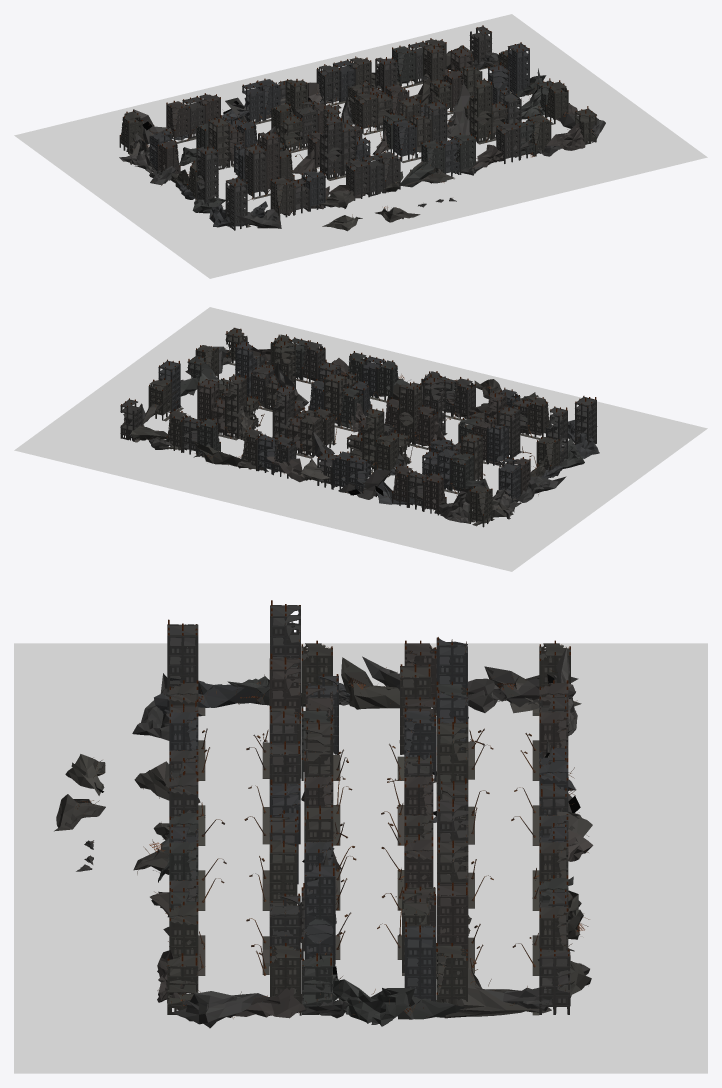
The model's file is RUIN_COMP.fbx.
3 renders of one model, top to bottom at view 1: azimuth 30°, elevation 25°; view 2: azimuth 150°, elevation 25°; view 3: azimuth 270°, elevation 25°, orthographic. The views are drawn at different scales.
Parts seen in each view (by area): view 1: Ground_Terrain, Road_Asphalt, B04S4_L1_3, B02S2_L1_3, Outer_W1_1_3, B01S1_L1_1, Corner_SW_1, Outer_E2_1_1, B10W2_L1_1, B15C3_N_01_LowPoly, B01S1_L2_3, Outer_S1_1_LowPoly (+50 smaller); view 2: Ground_Terrain, Road_Asphalt, B08N4_R1_3, B14C2_S_02_3, B06N2_R2_3, B07N3_R3_3, Corner_SW_1, B02S2_L1_3, Corner_NW_LowPoly, B07N3_R1_5, B15C3_S_02_1, B09W1_L3_5 (+45 smaller); view 3: Ground_Terrain, Road_Asphalt, Sidewalks_Curbs, B11E1_R3_3, Outer_E2_1_1, Barricade_014, B08N4_R3_1, B06N2_R2_3, Corner_SW_1, Barricade_017, Corner_NE_2, Barricade_012 (+49 smaller).
Boxes of the visible parts, left/top/right/bottom form: Ground_Terrain: left=14, top=14, right=707, bottom=278; Road_Asphalt: left=147, top=68, right=570, bottom=226; B04S4_L1_3: left=469, top=78, right=492, bottom=142; B02S2_L1_3: left=320, top=115, right=342, bottom=179; Outer_W1_1_3: left=196, top=146, right=218, bottom=203; B01S1_L1_1: left=244, top=143, right=266, bottom=197; Corner_SW_1: left=225, top=176, right=247, bottom=230; Outer_E2_1_1: left=507, top=42, right=529, bottom=94; B10W2_L1_1: left=208, top=115, right=230, bottom=169; B15C3_N_01_LowPoly: left=354, top=92, right=378, bottom=133; B01S1_L2_3: left=258, top=131, right=280, bottom=194; Outer_S1_1_LowPoly: left=270, top=177, right=294, bottom=217; Ground_Terrain: left=14, top=307, right=707, bottom=571; Road_Asphalt: left=137, top=364, right=574, bottom=518; B08N4_R1_3: left=225, top=374, right=246, bottom=438; B14C2_S_02_3: left=399, top=381, right=421, bottom=444; B06N2_R2_3: left=362, top=407, right=384, bottom=471; B07N3_R3_3: left=272, top=385, right=294, bottom=438; Corner_SW_1: left=575, top=396, right=596, bottom=445; B02S2_L1_3: left=422, top=374, right=445, bottom=435; Corner_NW_LowPoly: left=469, top=486, right=492, bottom=527; B07N3_R1_5: left=300, top=408, right=322, bottom=457; B15C3_S_02_1: left=324, top=371, right=346, bottom=425; B09W1_L3_5: left=486, top=424, right=508, bottom=466; Ground_Terrain: left=14, top=643, right=707, bottom=1073; Road_Asphalt: left=167, top=701, right=570, bottom=1015; Sidewalks_Curbs: left=167, top=707, right=539, bottom=1015; B11E1_R3_3: left=304, top=863, right=335, bottom=967; Outer_E2_1_1: left=404, top=921, right=435, bottom=1001; Barricade_014: left=332, top=979, right=414, bottom=1026; B08N4_R3_1: left=437, top=882, right=468, bottom=967; B06N2_R2_3: left=437, top=718, right=468, bottom=810; Corner_SW_1: left=167, top=619, right=198, bottom=694; Barricade_017: left=171, top=989, right=267, bottom=1028; Corner_NE_2: left=539, top=947, right=570, bottom=1014; Barricade_012: left=436, top=951, right=551, bottom=1018.
Size of the model in its own units: 186 by 31.83 by 127.
